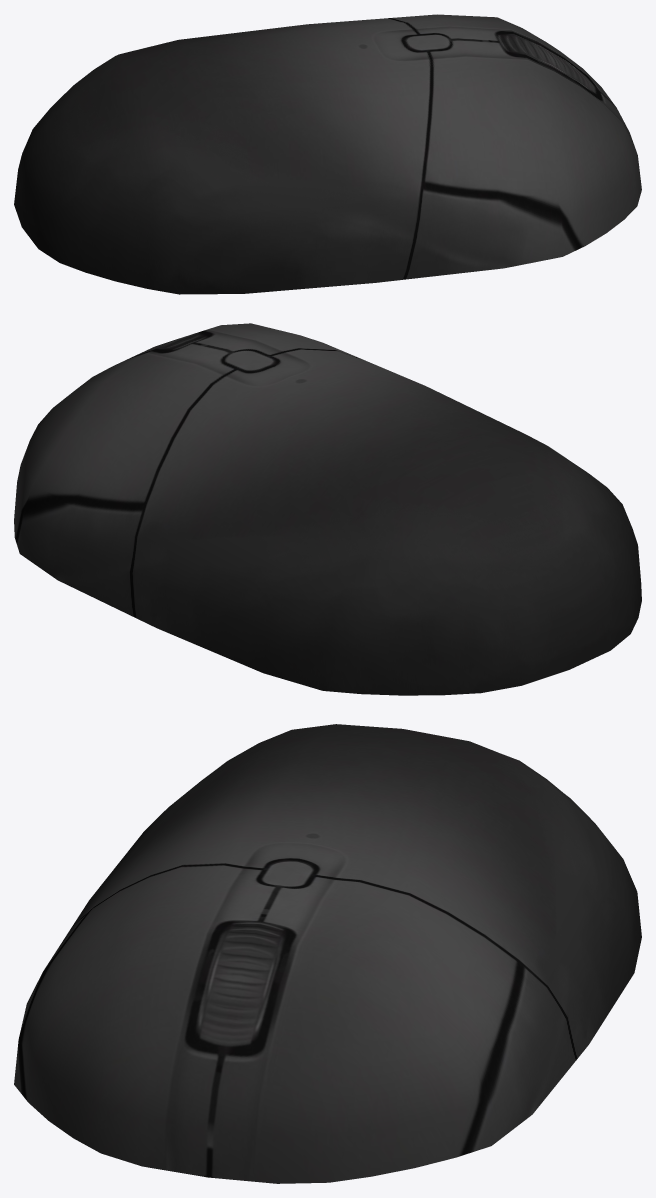
The model's file is mouse 1.fbx.
3 views of the same model, one above another, from view 1: azimuth 30°, elevation 25°; view 2: azimuth 150°, elevation 25°; view 3: azimuth 270°, elevation 25° (orthographic). The views are drawn at different scales.
Parts seen in each view (by area): view 1: pCube78; view 2: pCube78; view 3: pCube78.
Boxes of the visible parts, x1,y1,x2,y2 form: pCube78: [14, 14, 641, 294]; pCube78: [14, 323, 641, 695]; pCube78: [14, 724, 641, 1183].
Bounding box in the file's own units: 0.5599 × 0.1473 × 0.4298.
Materials: 1 (1 with a texture image).
